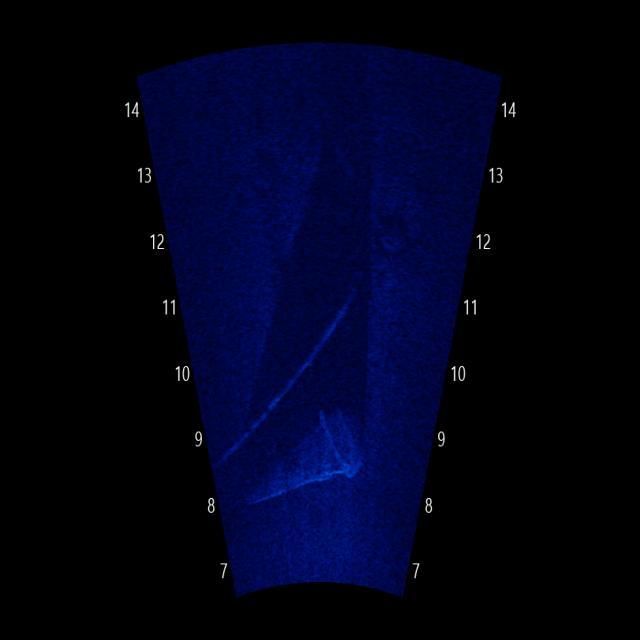circle: (371, 200, 424, 276), (237, 143, 296, 202)
triangle: (234, 387, 369, 526)
